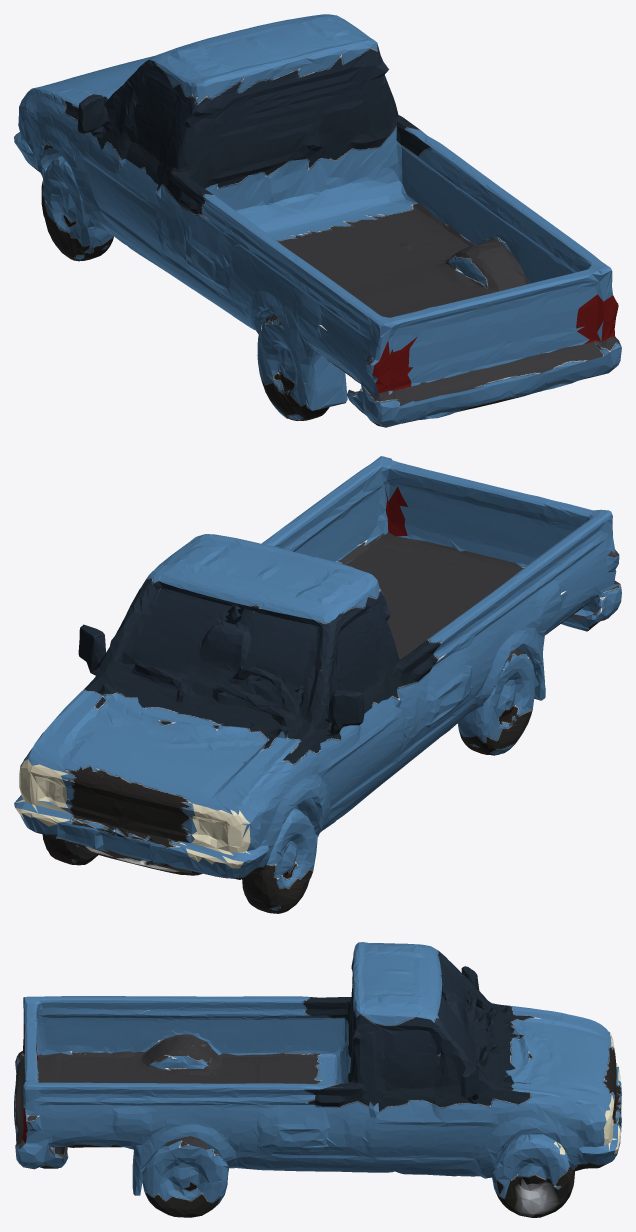
File: nissan.glb
3 renders of one model, top to bottom at view 1: azimuth 30°, elevation 25°; view 2: azimuth 150°, elevation 25°; view 3: azimuth 270°, elevation 25°, orthographic. The views are drawn at different scales.
Visible parts, largest first — view 1: body, taillights_rear; view 2: body, headlights_front, taillights_rear; view 3: body, wheel_2, headlights_front.
Part boxes in pixels (bbox=[...]): body: bbox=[14, 14, 621, 427]; taillights_rear: bbox=[372, 294, 618, 401]; body: bbox=[14, 456, 621, 913]; headlights_front: bbox=[14, 759, 250, 868]; taillights_rear: bbox=[385, 486, 407, 536]; body: bbox=[14, 942, 621, 1217]; wheel_2: bbox=[504, 1177, 562, 1217]; headlights_front: bbox=[554, 1030, 620, 1154].
Size of the model in its own units: 88.11 by 75.18 by 204.
7 materials, 1 textured.
